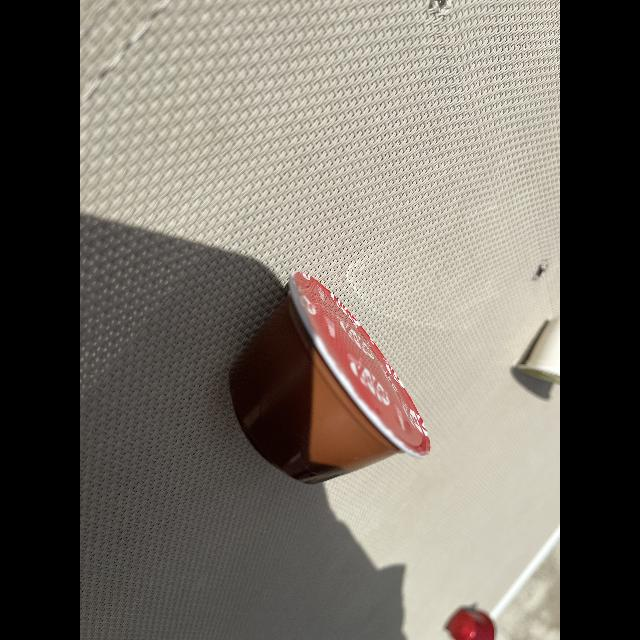intact_capsule: (220, 256, 440, 496)
